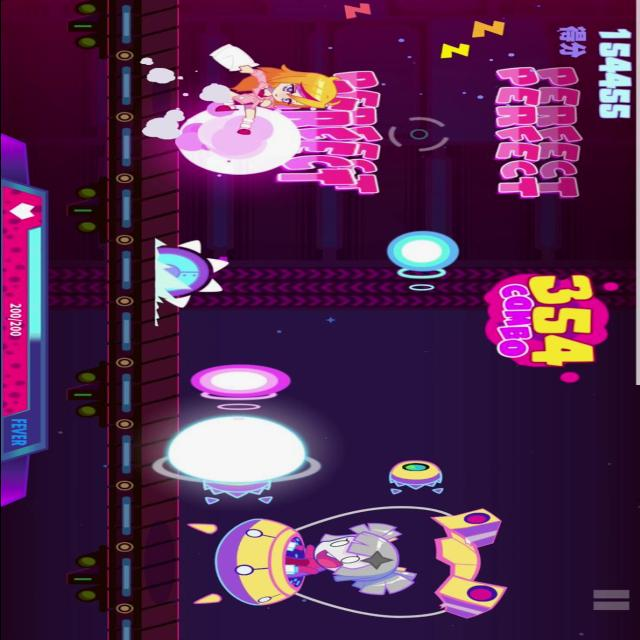ci: (152, 237, 244, 341)
qiangboss: (190, 455, 520, 619)
yuan: (382, 227, 470, 293), (188, 364, 294, 410)
